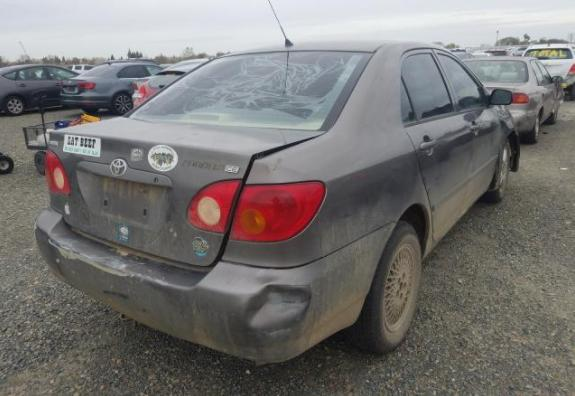Back-bumper: (34, 207, 397, 365)
Back-door: (398, 48, 472, 241)
Back-wheel: (340, 221, 422, 354)
Back-window: (401, 53, 454, 124)
Back-windshield: (127, 52, 373, 131)
Fender: (489, 105, 514, 154)
Front-door: (431, 48, 501, 214)
Front-wheel: (476, 139, 510, 204)
Front-window: (437, 53, 488, 109)
Mirror: (484, 88, 513, 105)
Quarter-panel: (220, 120, 435, 267), (49, 191, 61, 213)
Rocker-panel: (434, 190, 486, 243)
Roof: (216, 39, 429, 58)
Tail-light: (228, 182, 325, 242), (186, 179, 243, 233), (46, 150, 70, 195), (45, 153, 56, 194)
Trunk: (46, 117, 325, 265)
